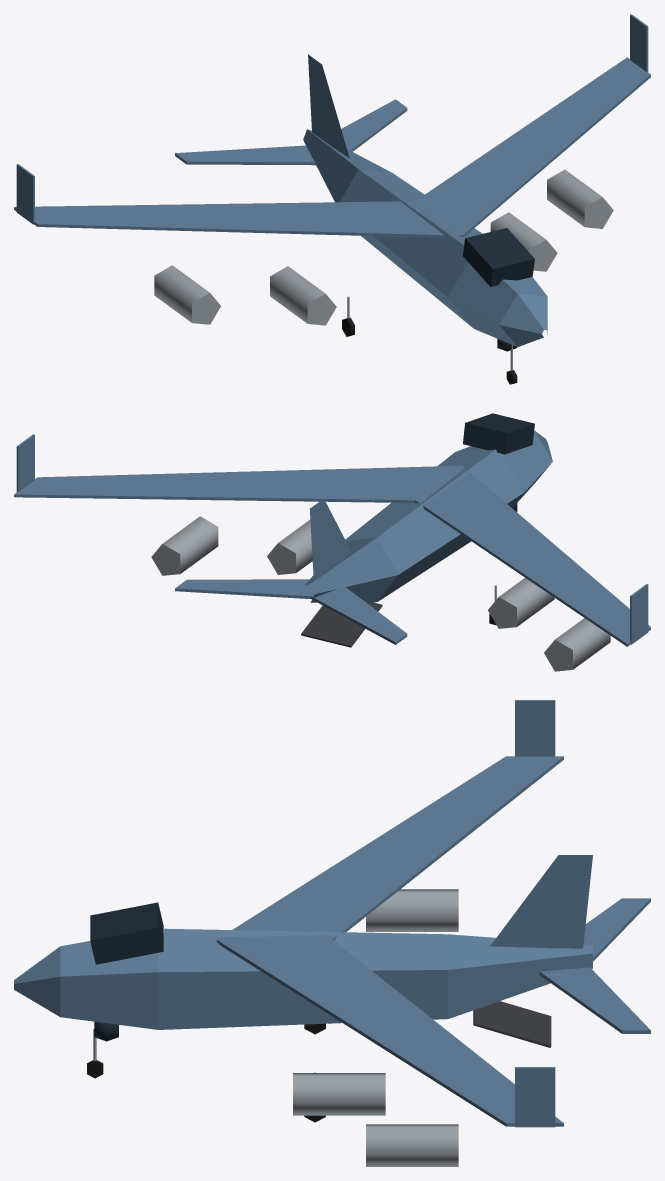
File: veh_air_transport_plane_a10_lod1.glb
The picture shows the model from 3 angles, top to bottom: view 1: azimuth 30°, elevation 25°; view 2: azimuth 150°, elevation 25°; view 3: azimuth 270°, elevation 25°; orthographic projection. The views are drawn at different scales.
Visible parts, largest first — view 1: body; view 2: body, ramp; view 3: body, ramp.
Part boxes in pixels (bbox=[...]): body: bbox=[14, 14, 650, 351]; body: bbox=[14, 413, 650, 671]; ramp: bbox=[301, 600, 382, 647]; body: bbox=[14, 700, 650, 1166]; ramp: bbox=[473, 1001, 551, 1047].
Size of the model in its own units: 27.68 by 7.81 by 20.24.
